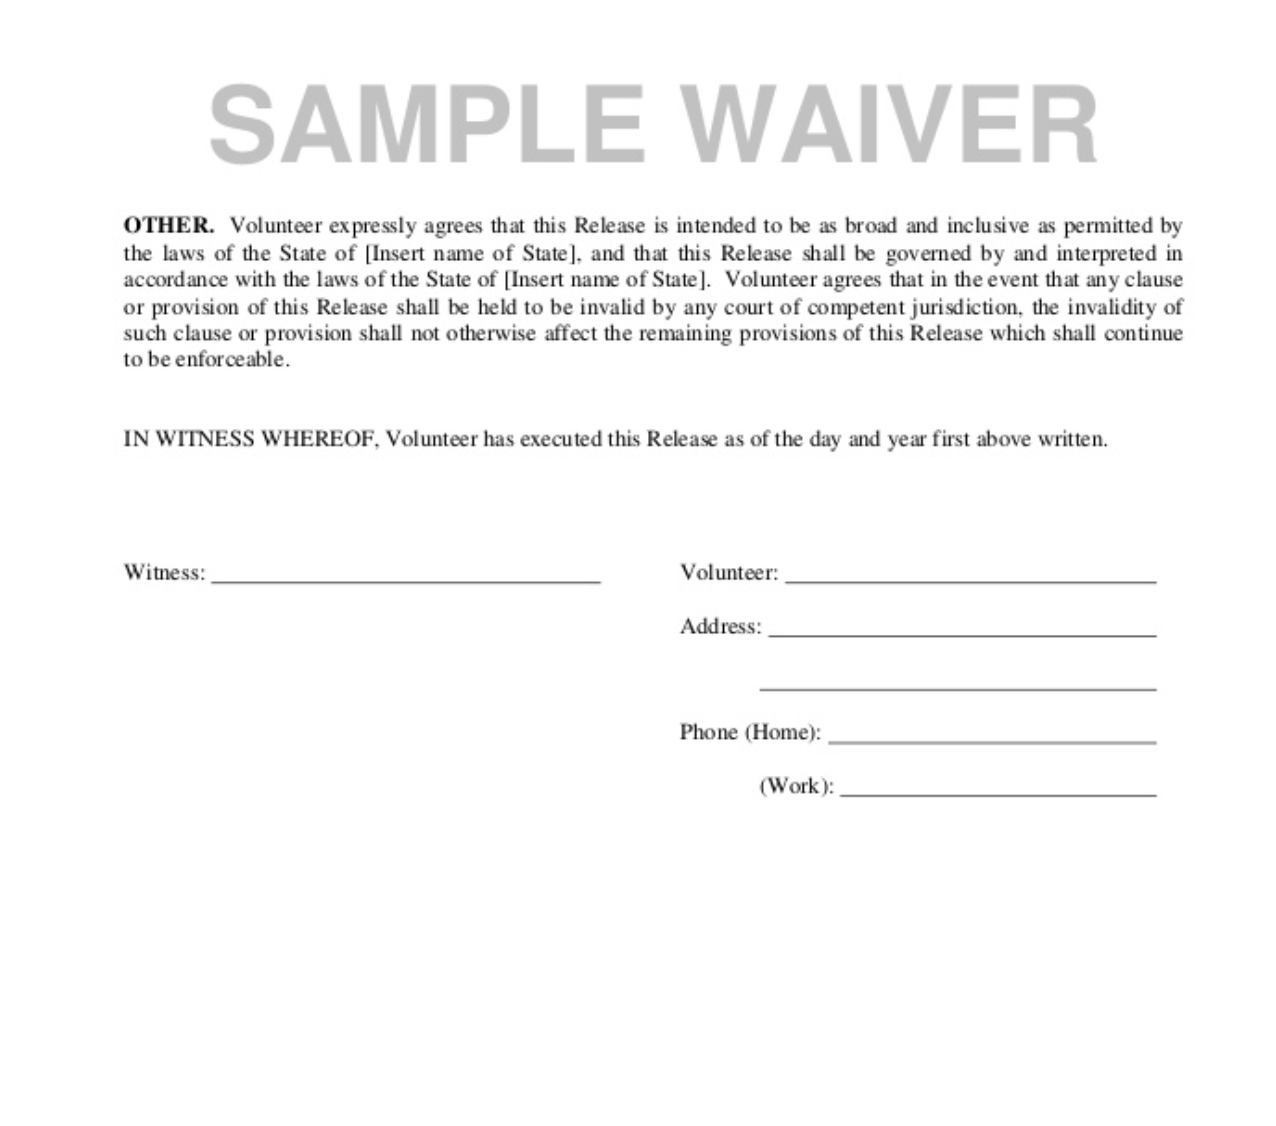textline: (750, 658, 1163, 699), (821, 706, 1163, 751), (836, 761, 1163, 806), (781, 553, 1162, 592), (763, 609, 1164, 646), (207, 552, 606, 588)
